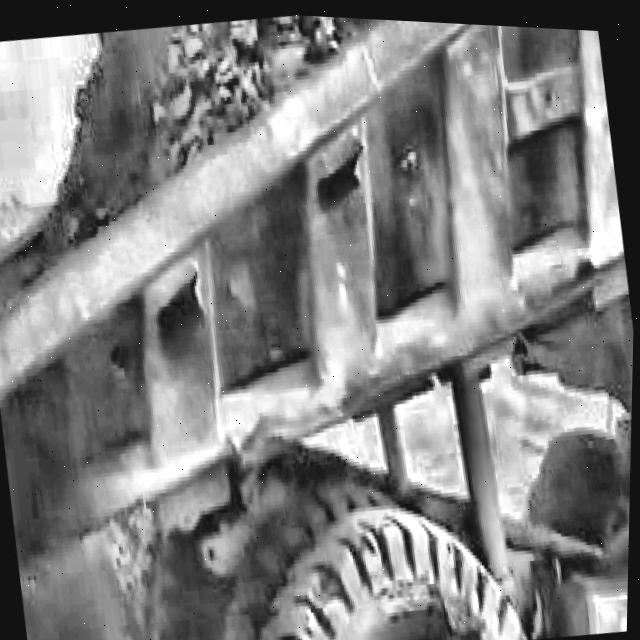dump_truck: (0, 15, 635, 640)
